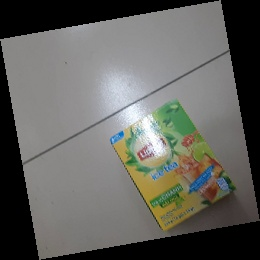LipTon: (110, 99, 238, 232)
